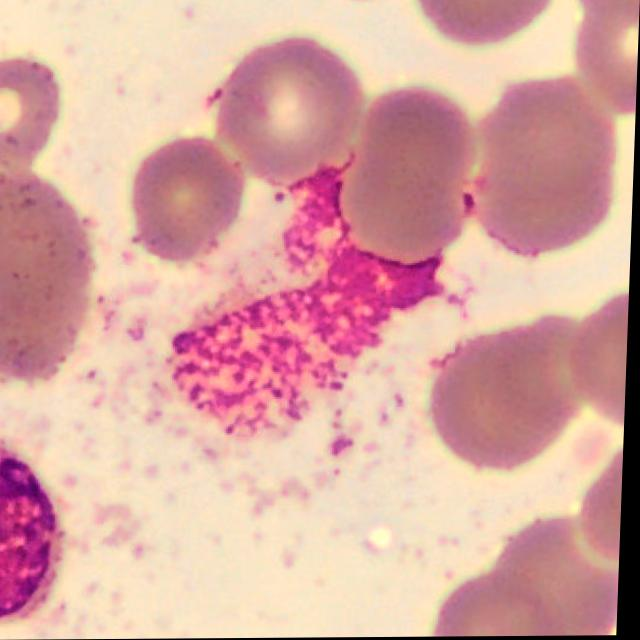Artefato: (176, 169, 444, 435)
